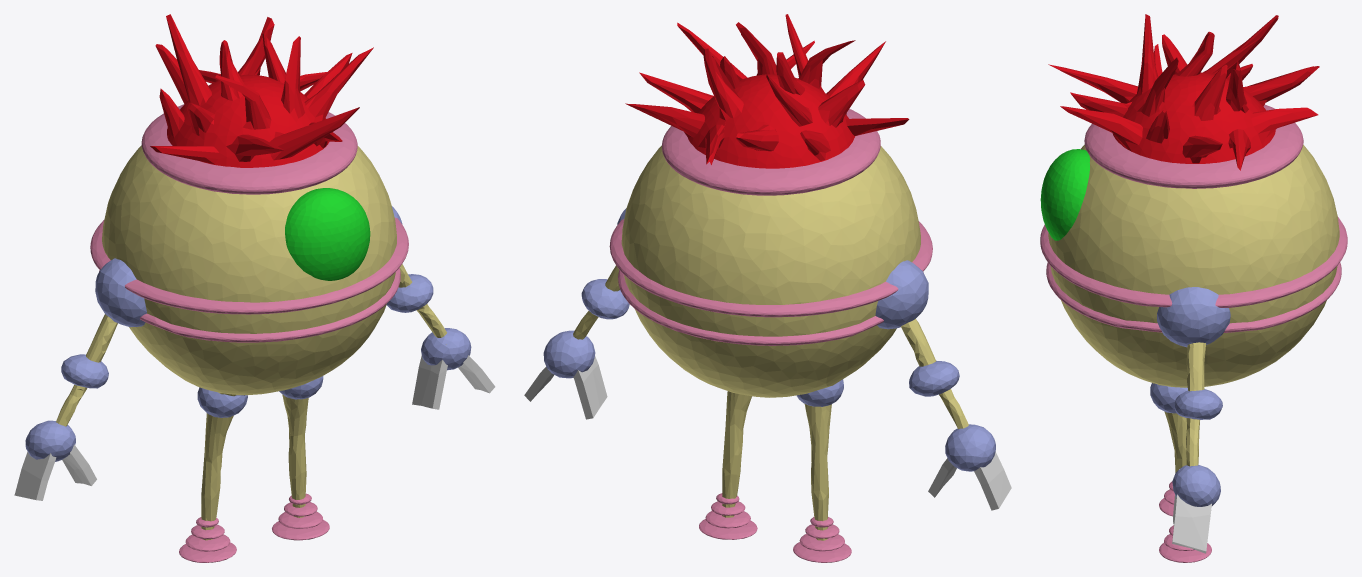
The model's file is bomber.fbx.
3 views of the same model, side by side, from view 1: azimuth 30°, elevation 25°; view 2: azimuth 150°, elevation 25°; view 3: azimuth 270°, elevation 25° (orthographic). The views are drawn at different scales.
Visible parts, largest first — view 1: Cuerpo_Group16352, Pelo_Group13033, Aros_Group4032, Bolas_Group19996, Ojo_Group20156, Manos_Group18422; view 2: Cuerpo_Group16352, Pelo_Group13033, Aros_Group4032, Bolas_Group19996, Manos_Group18422; view 3: Cuerpo_Group16352, Pelo_Group13033, Aros_Group4032, Bolas_Group19996, Ojo_Group20156, Manos_Group18422.
Boxes of the visible parts, x1=… form: Cuerpo_Group16352: x1=56, y1=145, x2=446, y2=540; Pelo_Group13033: x1=150, y1=14, x2=373, y2=167; Aros_Group4032: x1=90, y1=104, x2=408, y2=562; Bolas_Group19996: x1=25, y1=206, x2=471, y2=461; Ojo_Group20156: x1=285, y1=188, x2=370, y2=280; Manos_Group18422: x1=14, y1=344, x2=495, y2=500; Cuerpo_Group16352: x1=573, y1=145, x2=968, y2=540; Pelo_Group13033: x1=625, y1=14, x2=909, y2=168; Aros_Group4032: x1=609, y1=109, x2=932, y2=562; Bolas_Group19996: x1=543, y1=208, x2=995, y2=471; Manos_Group18422: x1=524, y1=336, x2=1011, y2=510; Cuerpo_Group16352: x1=1048, y1=144, x2=1339, y2=472; Pelo_Group13033: x1=1048, y1=14, x2=1319, y2=170; Aros_Group4032: x1=1040, y1=104, x2=1347, y2=562; Bolas_Group19996: x1=1150, y1=287, x2=1230, y2=506; Ojo_Group20156: x1=1040, y1=149, x2=1089, y2=240; Manos_Group18422: x1=1172, y1=469, x2=1211, y2=553.
Size of the model in its own units: 194 by 200 by 112.
